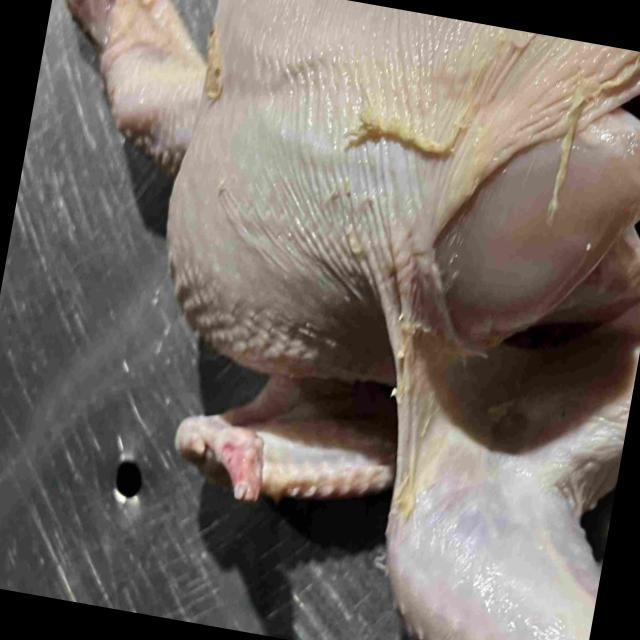breast: (168, 0, 640, 380)
leg: (387, 347, 599, 640)
neck: (65, 0, 203, 180)
wing: (172, 370, 391, 504)
